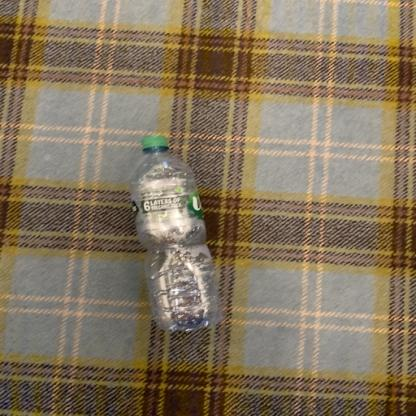trash: (127, 134, 225, 336)
